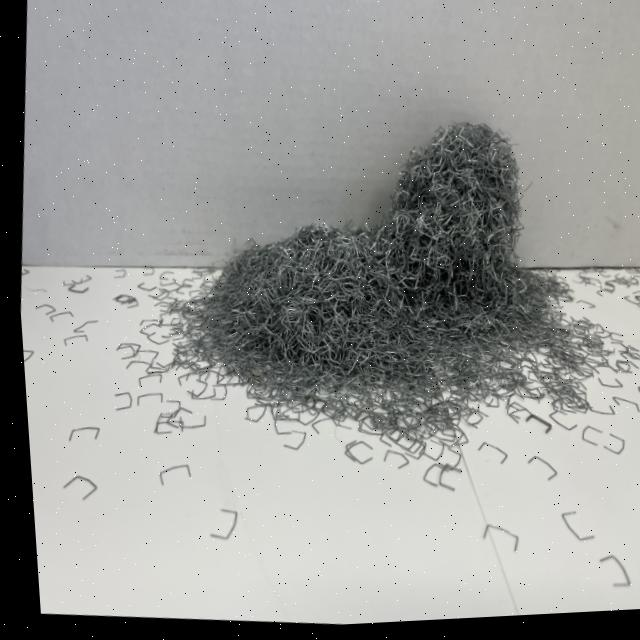staples: (150, 86, 630, 465)
